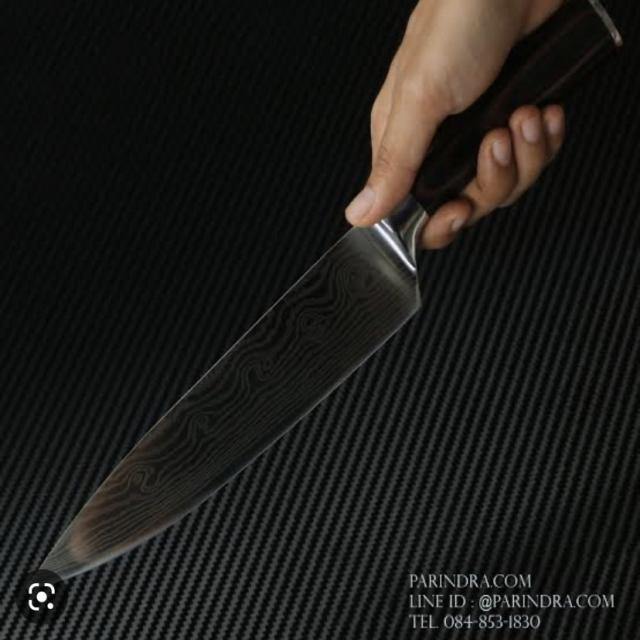Knife: (43, 0, 640, 598)
